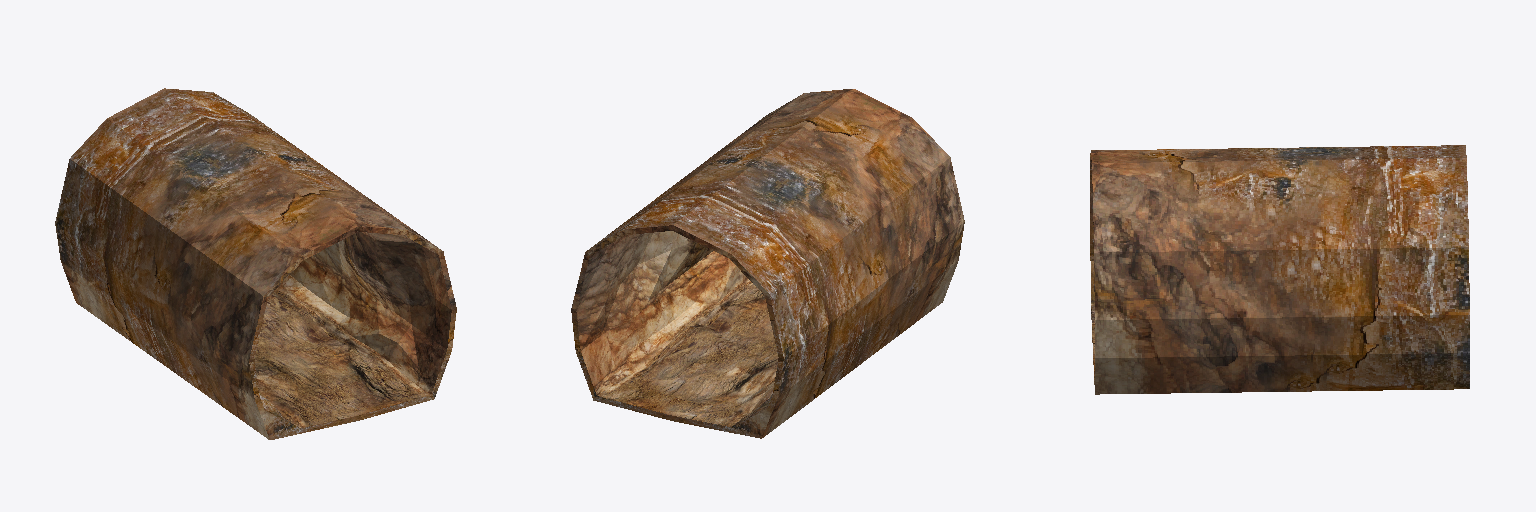
3 renders of one model, left to right at view 1: azimuth 30°, elevation 25°; view 2: azimuth 150°, elevation 25°; view 3: azimuth 270°, elevation 25°, orthographic.
Parts seen in each view (by area): view 1: cavecorridor3; view 2: cavecorridor3; view 3: cavecorridor3.
Part boxes in pixels (x1,y1,x2,y2): cavecorridor3: (55, 88, 456, 439); cavecorridor3: (571, 89, 964, 438); cavecorridor3: (1090, 145, 1469, 394).
Size of the model in its own units: 105 by 91.67 by 160.
1 materials, 1 textured.